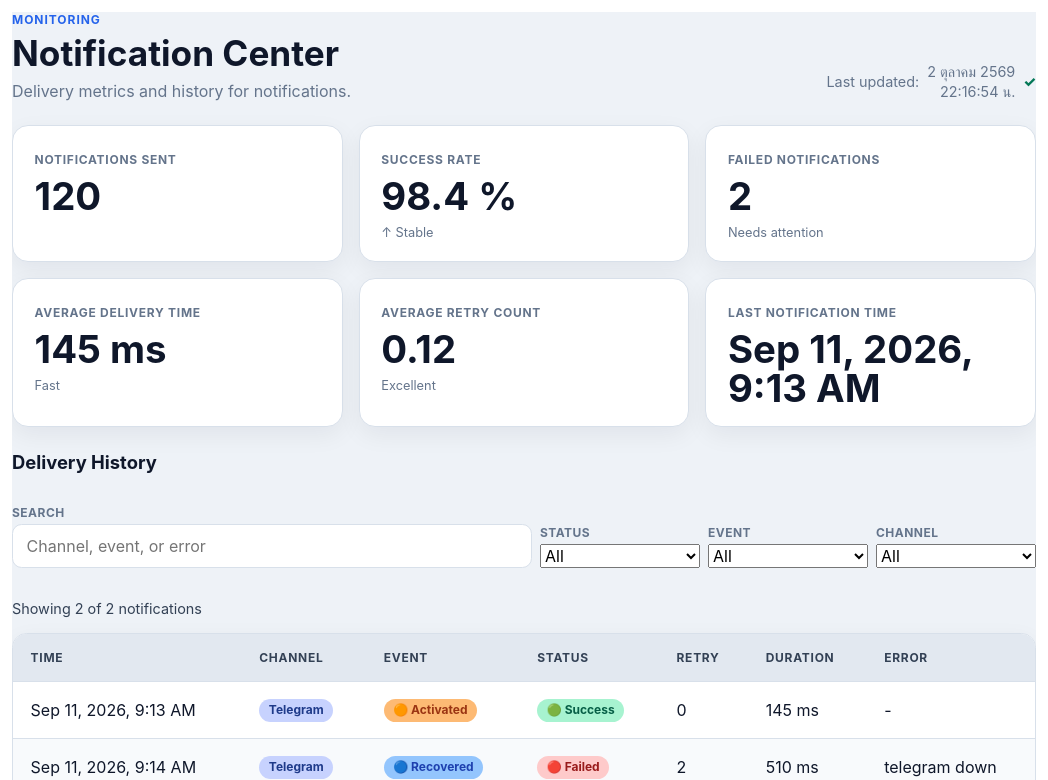
Test: Notification Center page › filters delivery history by status
Expected: the text "Showing 2 of 2 notifications" is shown, [12,600,202,618]
Select "Success" in the dropdown labelled "Status" at (620, 556), box [540,544,700,568]
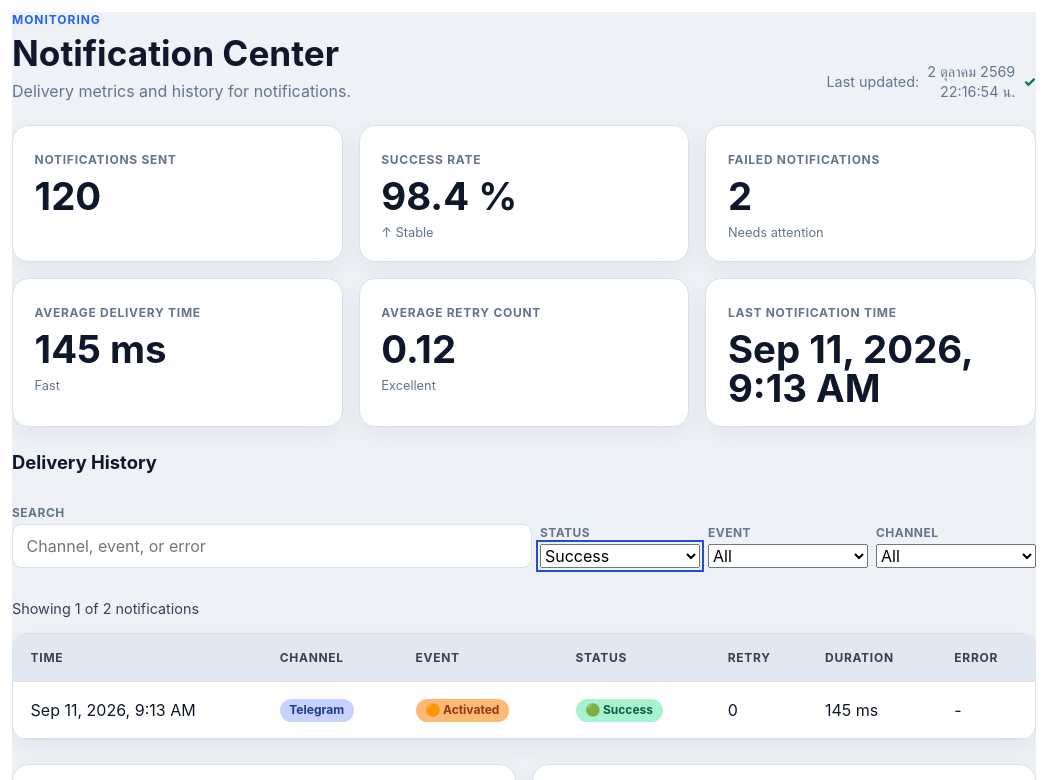
Expected: the text "🟢 Success" is shown, [576,699,663,722]
Expected: the text "Showing 1 of 2 notifications" is shown, [12,600,199,618]
Expected: the text "🔴 Failed" is gone
